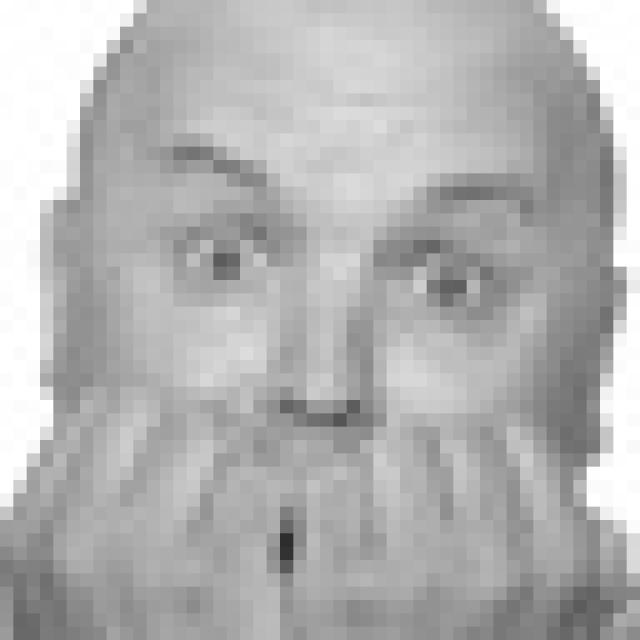fear: (153, 141, 539, 586)
